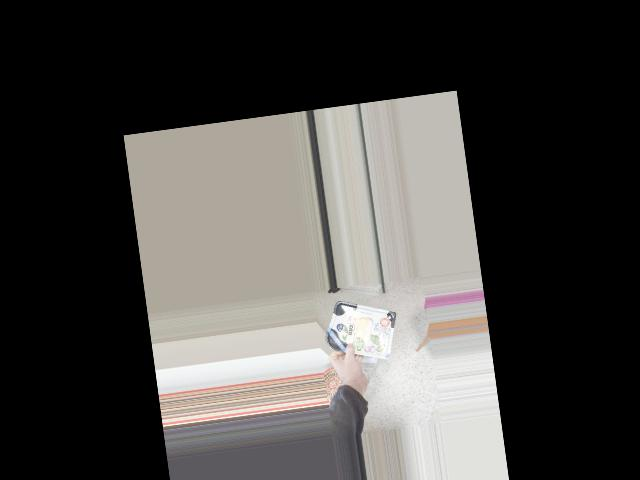cheese: (326, 300, 395, 356)
